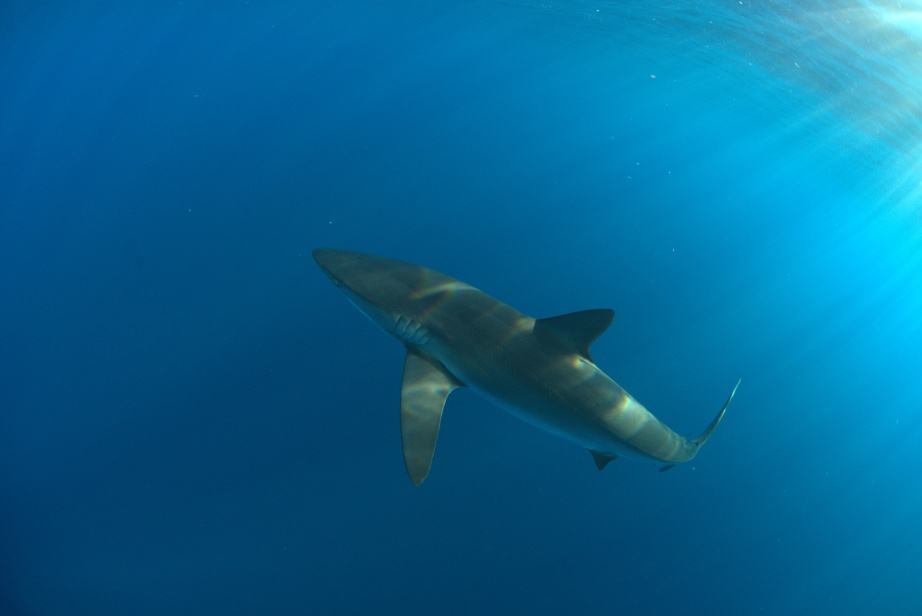Sedoso: (298, 225, 751, 490)
